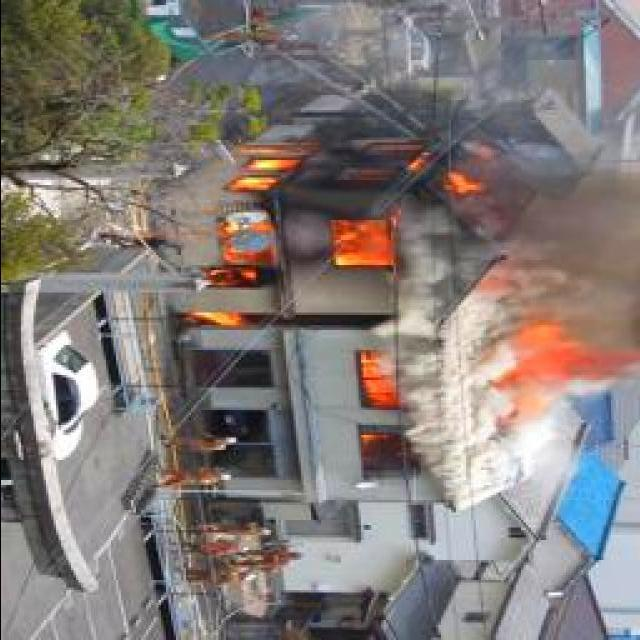Fire: (183, 137, 494, 340), (492, 322, 602, 434), (356, 354, 406, 471)
